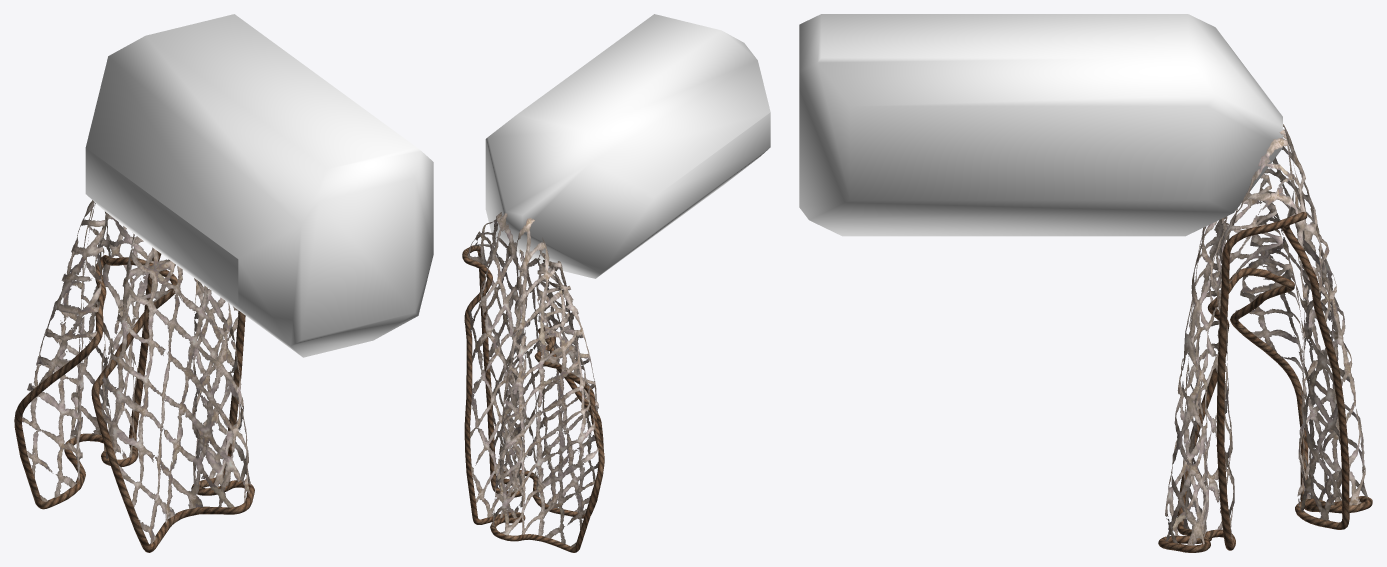
Rendered from SM_Net_A.fbx.
3 views of the same model, side by side, from view 1: azimuth 30°, elevation 25°; view 2: azimuth 150°, elevation 25°; view 3: azimuth 270°, elevation 25° (orthographic). The views are drawn at different scales.
Parts seen in each view (by area): view 1: SM_Net_A_ConvexHulls, SM_Net_A; view 2: SM_Net_A_ConvexHulls, SM_Net_A; view 3: SM_Net_A_ConvexHulls, SM_Net_A.
Boxes of the visible parts, x1,y1,x2,y2 form: SM_Net_A_ConvexHulls: [85, 14, 433, 357]; SM_Net_A: [14, 200, 254, 552]; SM_Net_A_ConvexHulls: [485, 14, 770, 278]; SM_Net_A: [462, 212, 604, 552]; SM_Net_A_ConvexHulls: [799, 14, 1282, 236]; SM_Net_A: [1158, 124, 1372, 552].
Bounding box in the file's own units: 1.72 × 4.28 × 4.29.
